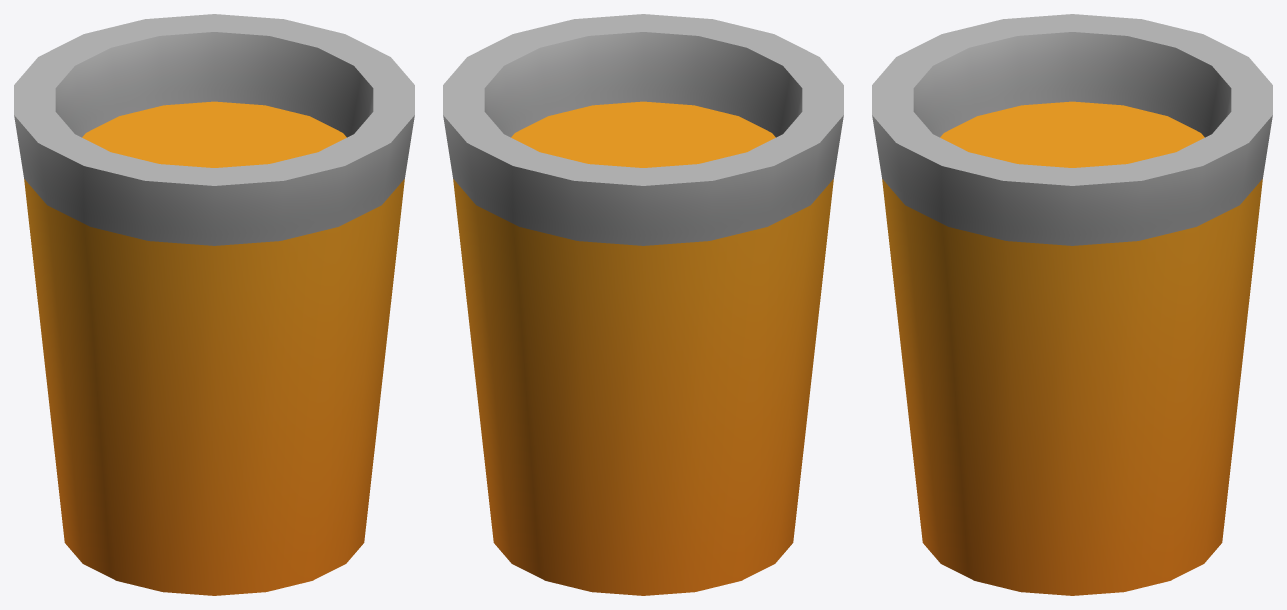
File: Product Juice.fbx
3 views of the same model, side by side, from view 1: azimuth 30°, elevation 25°; view 2: azimuth 150°, elevation 25°; view 3: azimuth 270°, elevation 25° (orthographic).
Visible parts, largest first — view 1: Product_Juice; view 2: Product_Juice; view 3: Product_Juice.
Part boxes in pixels (<box>): Product_Juice: <box>14,14,414,595</box>; Product_Juice: <box>443,14,843,595</box>; Product_Juice: <box>872,14,1272,595</box>.
Bounding box in the file's own units: 51.45 × 60.21 × 50.67.
